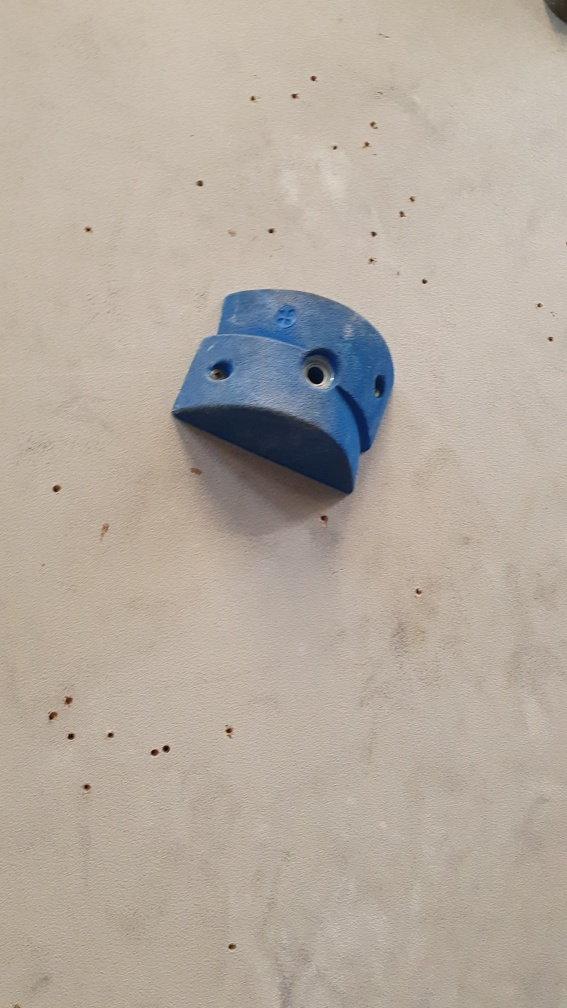Pinch: (167, 281, 405, 502)
